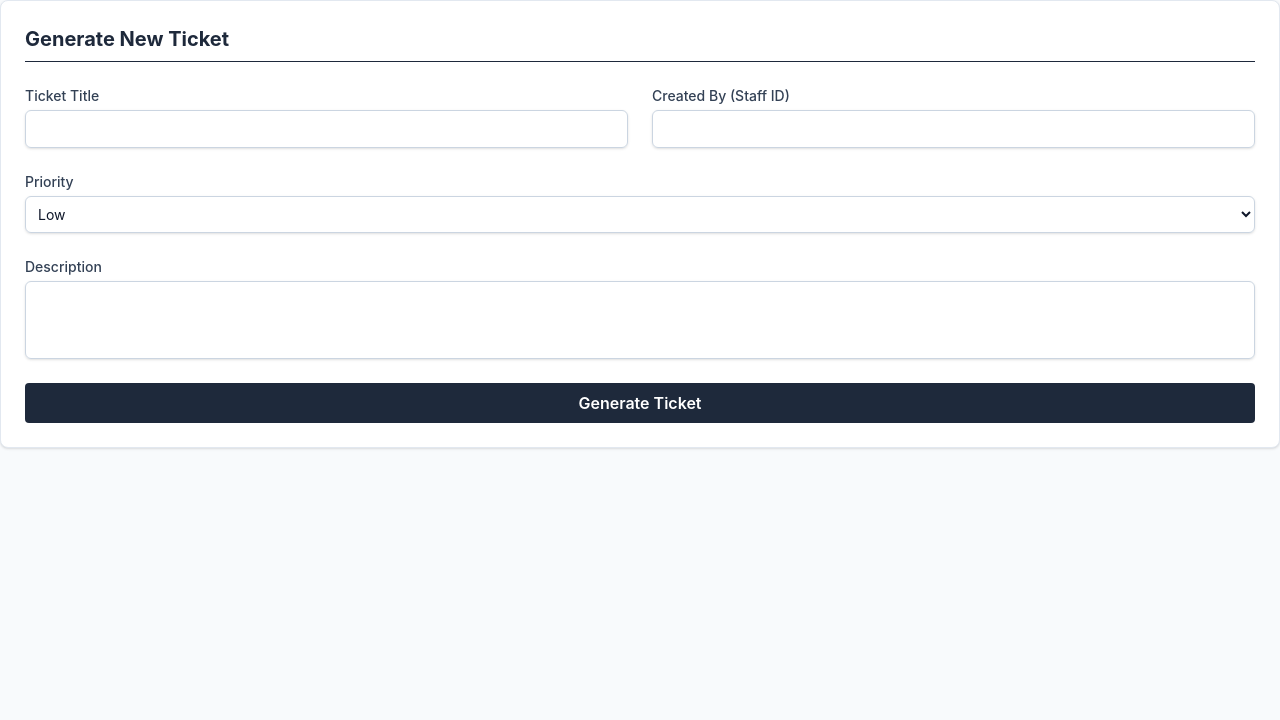
Test: TicketForm Component - Validation & Security › prevents submission and shows red validation errors on empty fields
This screenshot has width=1280, height=720.
// Attempt submit without filling fields
Click the button "Generate Ticket" at (640, 403), box [25,383,1255,423]
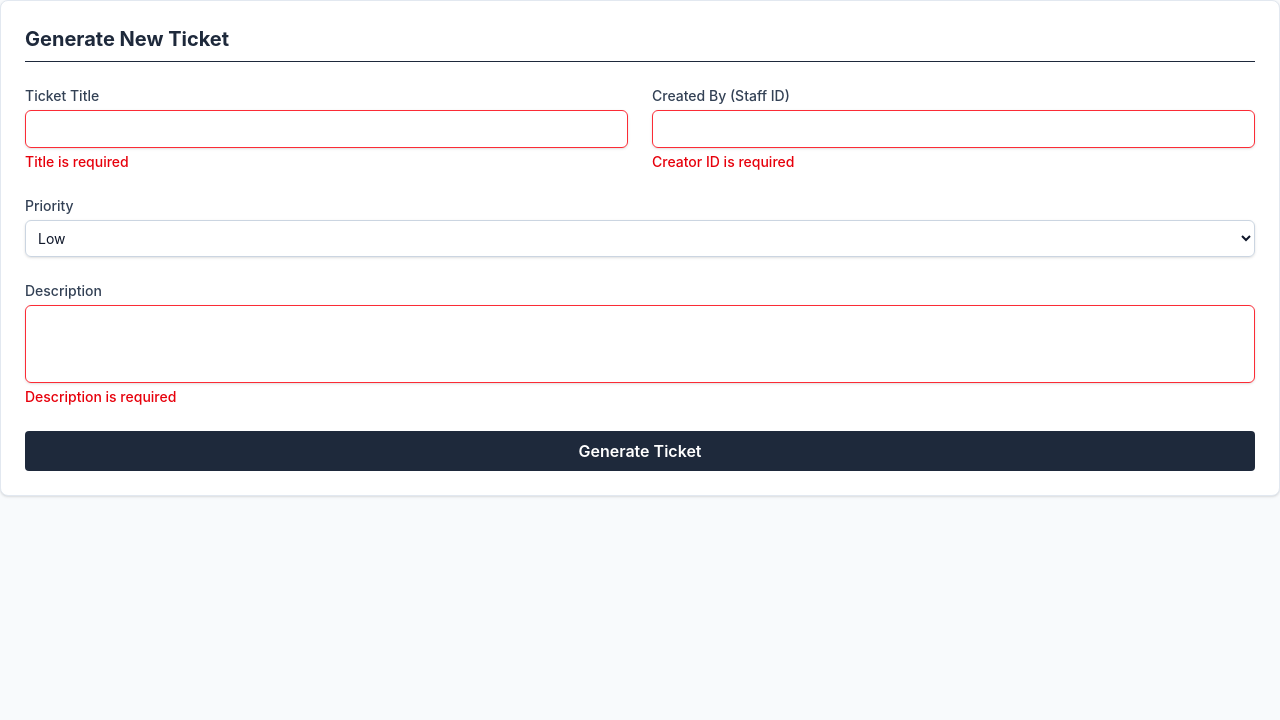
Expected: the text "Title is required" is shown, [25,153,129,170]
